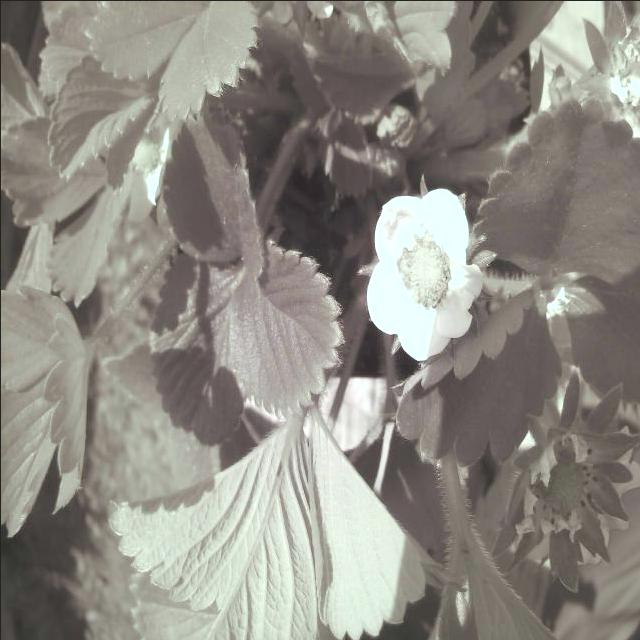flower: (361, 183, 488, 370)
